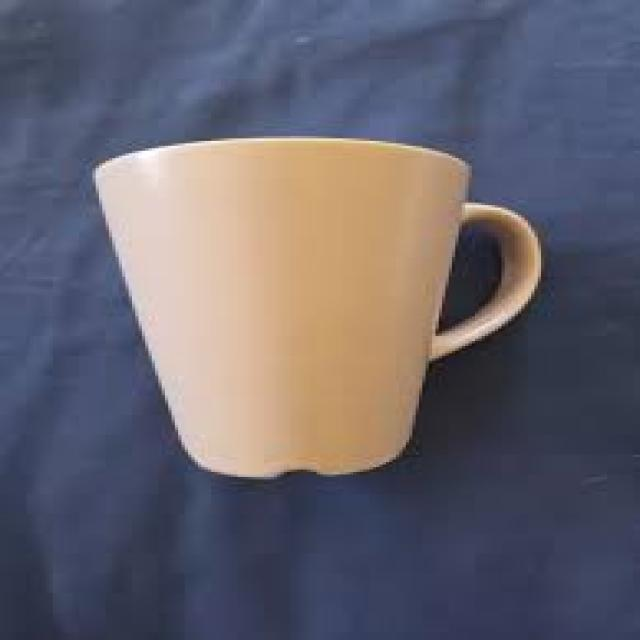taza: (92, 135, 546, 479)
